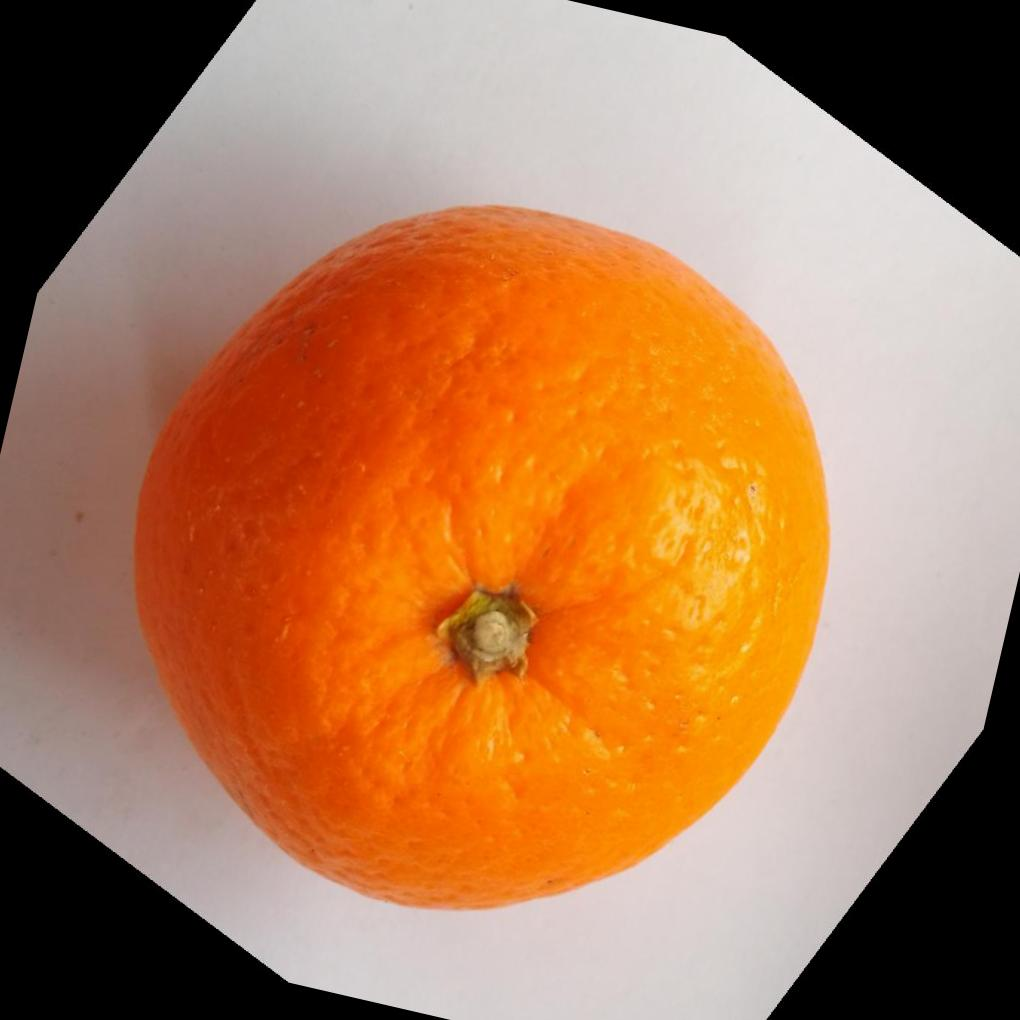FreshGuava: (127, 203, 832, 917)
